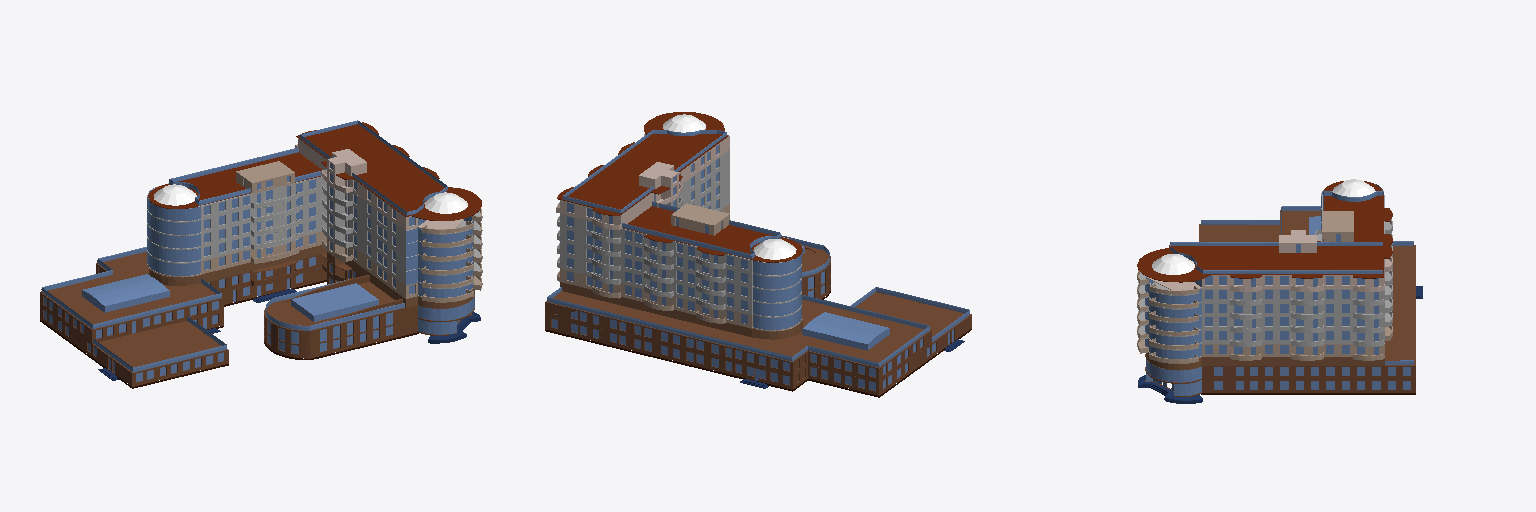
File: complex.obj
3 renders of one model, left to right at view 1: azimuth 30°, elevation 25°; view 2: azimuth 150°, elevation 25°; view 3: azimuth 270°, elevation 25°, orthographic.
Visible parts, largest first — view 1: complex, Sphere02, Object07; view 2: complex, Sphere02; view 3: complex, Sphere02, Object07.
Part boxes in pixels (bbox=[...]): complex: bbox=[40, 120, 482, 388]; Sphere02: bbox=[154, 184, 467, 213]; Object07: bbox=[98, 289, 480, 380]; complex: bbox=[545, 112, 971, 397]; Sphere02: bbox=[663, 114, 796, 259]; complex: bbox=[1137, 181, 1415, 396]; Sphere02: bbox=[1152, 179, 1375, 274]; Object07: bbox=[1138, 286, 1422, 403].
Bounding box in the file's own units: 182 × 68.43 × 132.